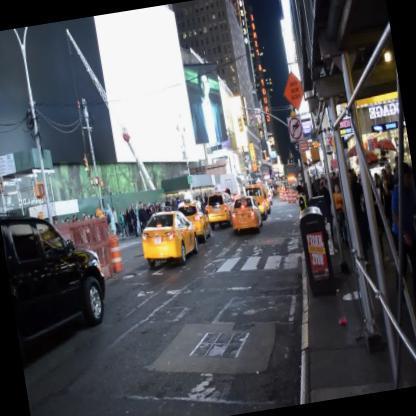car: (0, 202, 115, 364), (138, 207, 200, 270), (178, 198, 212, 244), (228, 193, 264, 234), (204, 190, 236, 230)
